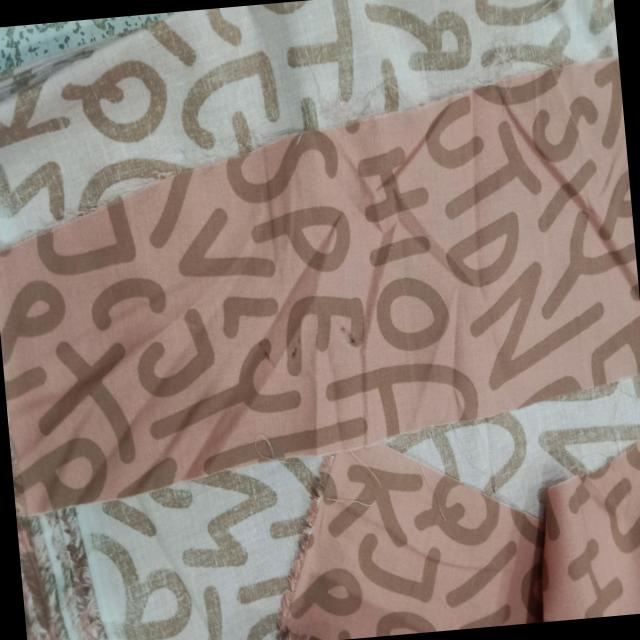cut: (374, 378, 640, 517)
